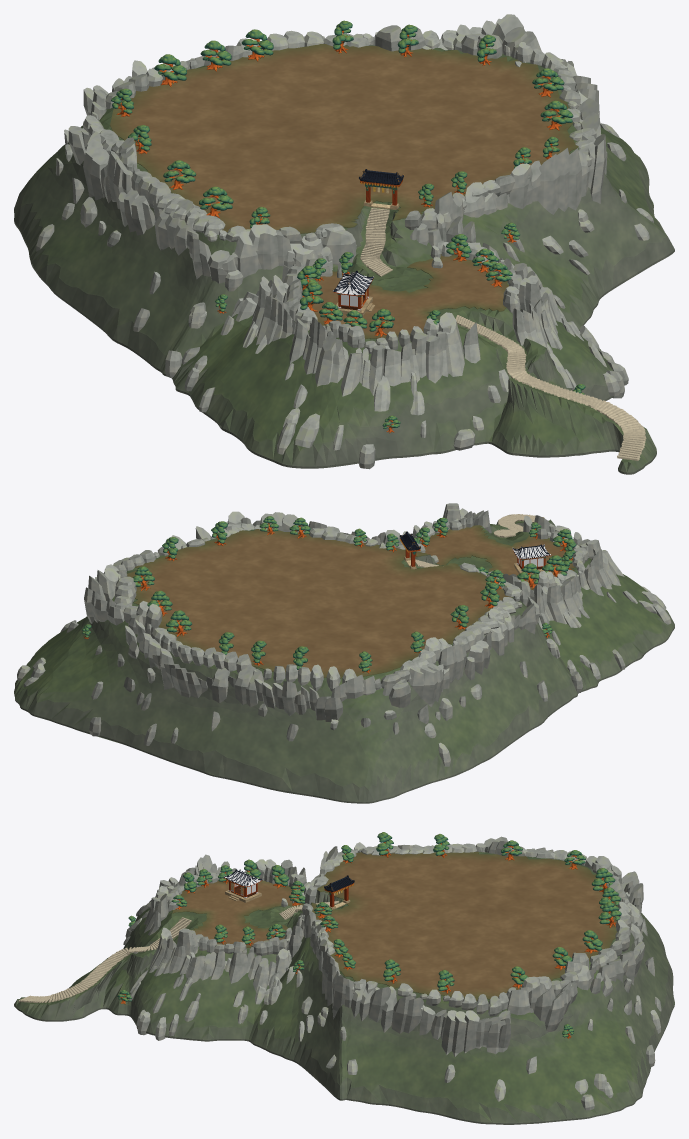
File: Test_CheonMountainMap.fbx
The picture shows the model from 3 angles, top to bottom: view 1: azimuth 30°, elevation 25°; view 2: azimuth 150°, elevation 25°; view 3: azimuth 270°, elevation 25°; orthographic projection. The views are drawn at different scales.
Visible parts, largest first — view 1: Mountain_Continuous_Core, Arena_Floor_Flat_UV, Granite_Cliff_Upper, Granite_Cliff_Lower, Rocky_Ledges_And_Foothills, Summit_Rim_Outcrops_Upper, Shrine_Floor_Flat_UV, Summit_Rim_Outcrops_Lower, Stairway_Winding_Approach, Stairway_Between_Summits, Gate_Threshold_1, Roof; view 2: Mountain_Continuous_Core, Arena_Floor_Flat_UV, Granite_Cliff_Upper, Summit_Rim_Outcrops_Upper, Rocky_Ledges_And_Foothills, Granite_Cliff_Lower, Shrine_Floor_Flat_UV, Summit_Rim_Outcrops_Lower, Stairway_Winding_Approach, Gate_Threshold_1; view 3: Mountain_Continuous_Core, Arena_Floor_Flat_UV, Granite_Cliff_Upper, Summit_Rim_Outcrops_Upper, Granite_Cliff_Lower, Rocky_Ledges_And_Foothills, Shrine_Floor_Flat_UV, Summit_Rim_Outcrops_Lower, Stairway_Winding_Approach, Gate_Threshold_1.
Boxes of the visible parts, box(x1,y1,x2,y2) form: Mountain_Continuous_Core: box(14, 45, 674, 474); Arena_Floor_Flat_UV: box(110, 44, 578, 233); Granite_Cliff_Upper: box(68, 14, 607, 283); Granite_Cliff_Lower: box(231, 212, 561, 396); Rocky_Ledges_And_Foothills: box(36, 123, 653, 469); Summit_Rim_Outcrops_Upper: box(83, 25, 596, 243); Shrine_Floor_Flat_UV: box(302, 254, 508, 339); Summit_Rim_Outcrops_Lower: box(283, 240, 522, 353); Stairway_Winding_Approach: box(455, 315, 646, 460); Stairway_Between_Summits: box(360, 208, 392, 276); Gate_Threshold_1: box(359, 169, 403, 209); Roof: box(332, 270, 373, 295); Mountain_Continuous_Core: box(14, 519, 674, 803); Arena_Floor_Flat_UV: box(127, 529, 512, 678); Granite_Cliff_Upper: box(84, 511, 539, 721); Summit_Rim_Outcrops_Upper: box(114, 523, 522, 691); Rocky_Ledges_And_Foothills: box(17, 555, 671, 766); Granite_Cliff_Lower: box(401, 503, 624, 633); Shrine_Floor_Flat_UV: box(419, 525, 575, 590); Summit_Rim_Outcrops_Lower: box(402, 516, 588, 600); Stairway_Winding_Approach: box(493, 514, 544, 537); Gate_Threshold_1: box(399, 531, 420, 569); Mountain_Continuous_Core: box(14, 852, 674, 1124); Arena_Floor_Flat_UV: box(311, 851, 619, 1000); Granite_Cliff_Upper: box(296, 836, 644, 1056); Summit_Rim_Outcrops_Upper: box(302, 841, 632, 1016); Granite_Cliff_Lower: box(144, 854, 324, 992); Rocky_Ledges_And_Foothills: box(123, 892, 661, 1110); Shrine_Floor_Flat_UV: box(172, 880, 303, 947); Summit_Rim_Outcrops_Lower: box(167, 867, 310, 955); Stairway_Winding_Approach: box(18, 917, 191, 1002); Gate_Threshold_1: box(324, 875, 354, 909).
Bounding box in the file's own units: 19451 × 4937 × 25215.
